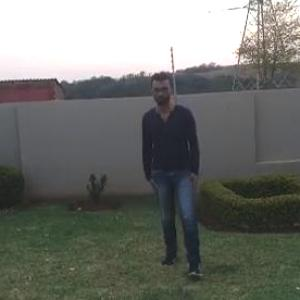follow: (146, 59, 210, 288)
